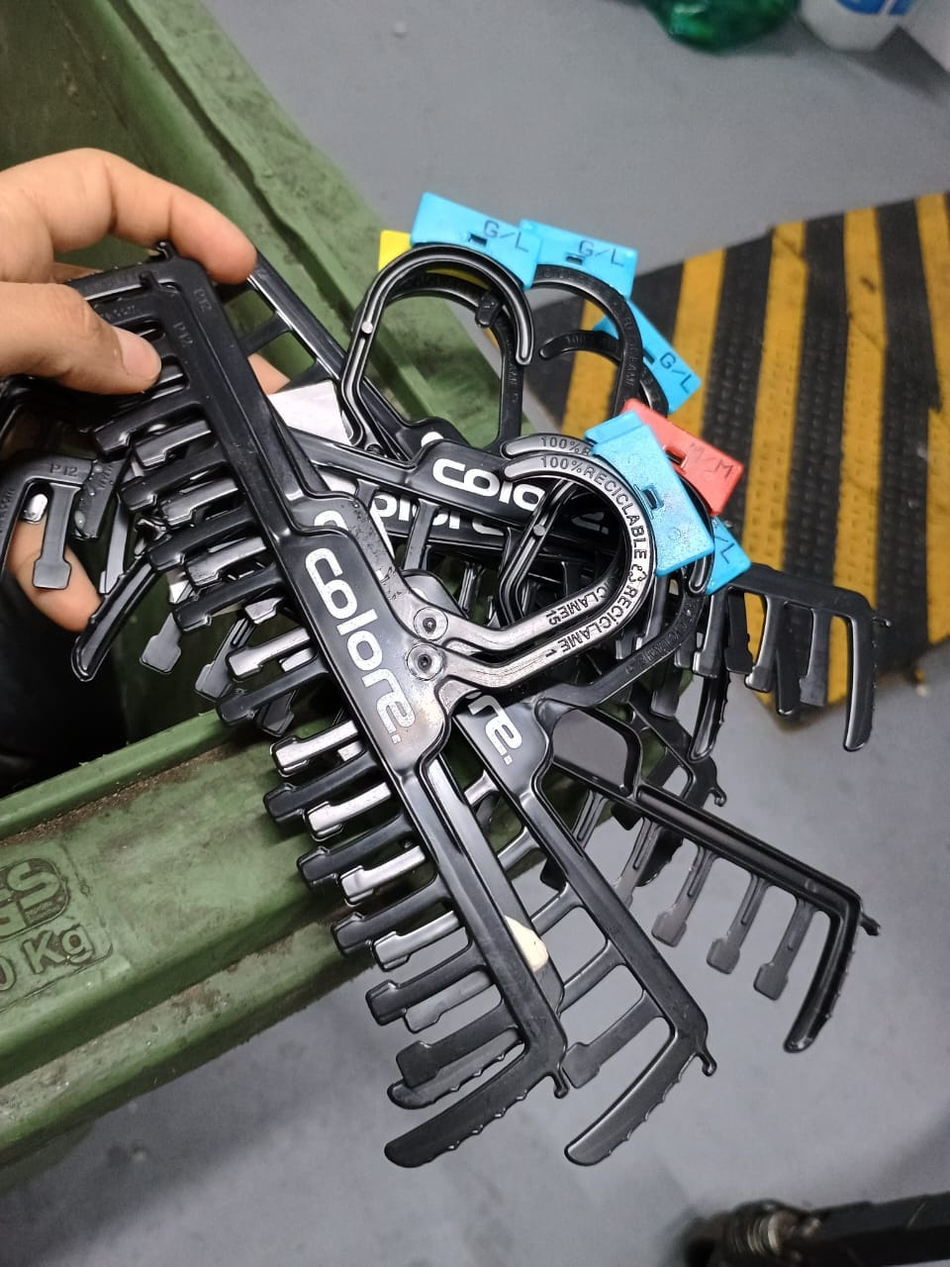Plastico: (0, 196, 874, 1168)
